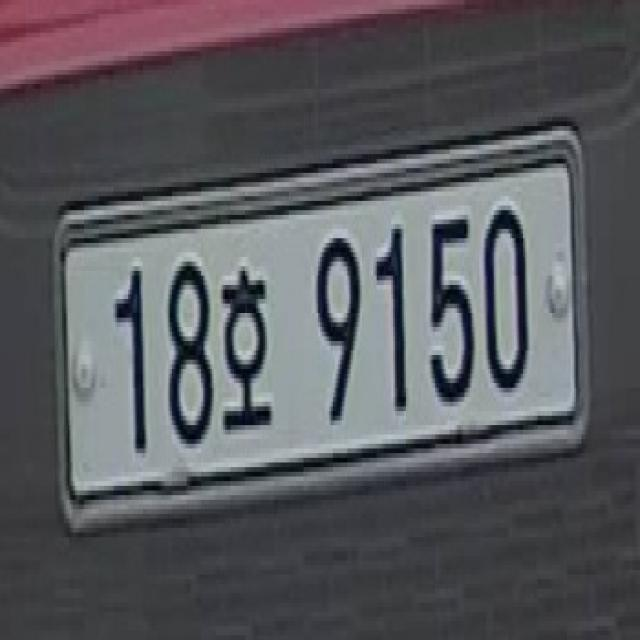0: (479, 192, 536, 406)
1: (106, 248, 155, 477), (373, 210, 415, 420)
5: (424, 192, 477, 416)
8: (159, 243, 216, 462)
9: (312, 220, 368, 434)
ho: (218, 252, 276, 453)
license_plate: (50, 108, 594, 546)
